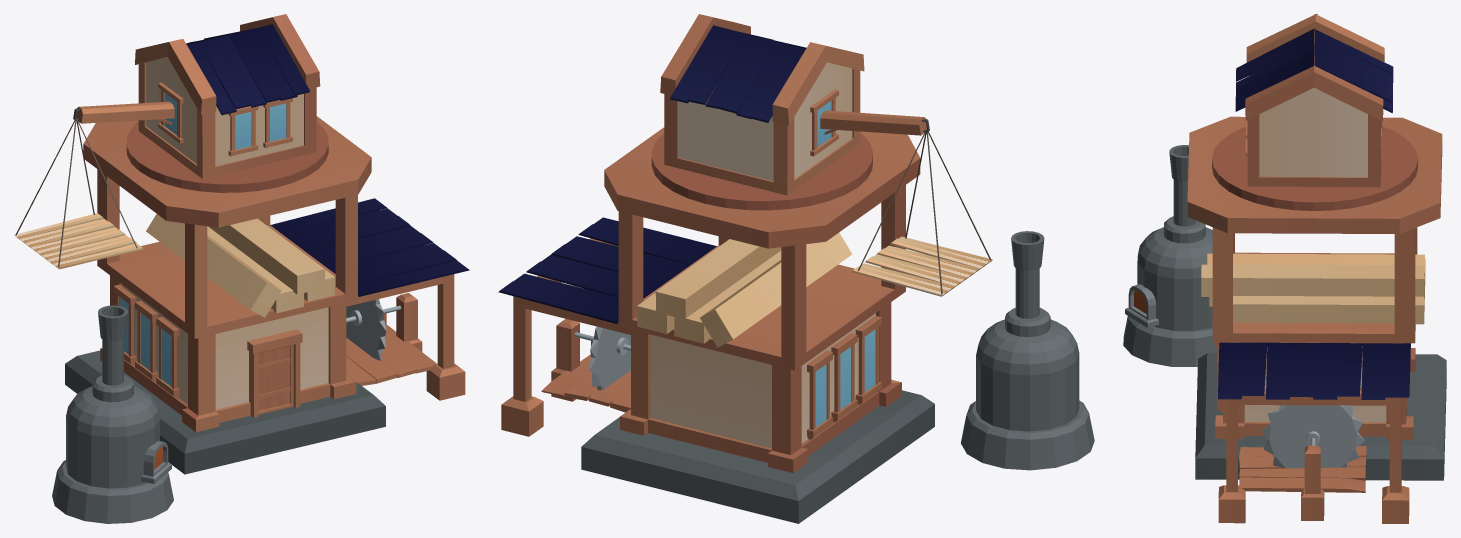
File: Refinaria.fbx
3 views of the same model, side by side, from view 1: azimuth 30°, elevation 25°; view 2: azimuth 150°, elevation 25°; view 3: azimuth 270°, elevation 25° (orthographic). The views are drawn at different scales.
Visible parts, largest first — view 1: Refinaria.001; view 2: Refinaria.001; view 3: Refinaria.001.
Boxes of the visible parts, box(x1,y1,x2,y2) form: Refinaria.001: box(14, 14, 469, 523); Refinaria.001: box(498, 14, 1094, 523); Refinaria.001: box(1123, 14, 1446, 523).
Bounding box in the file's own units: 1615 × 1375 × 1041.
